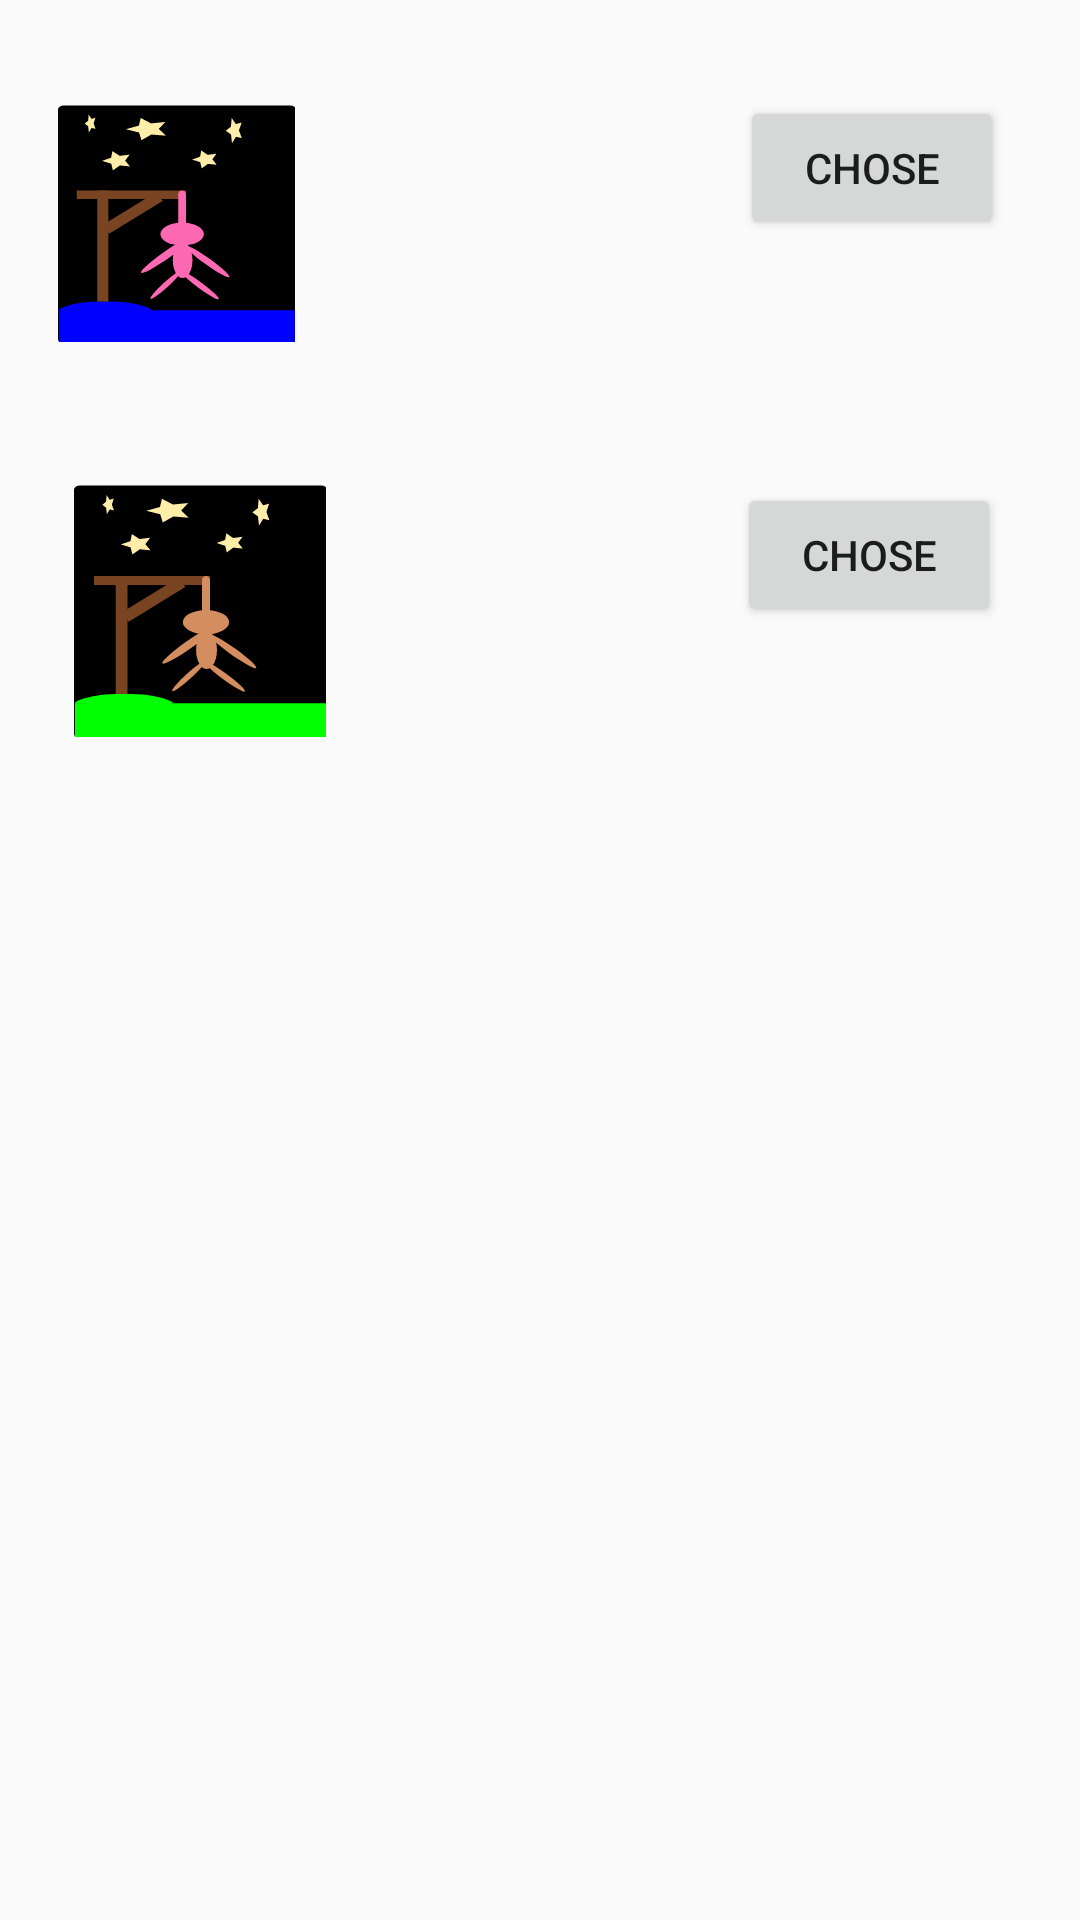

Named icons in this screenshot (1080 x 1920) and their centers, point (x, y):
hangmandefault: point (200, 611)
hangmanpink: point (176, 223)
